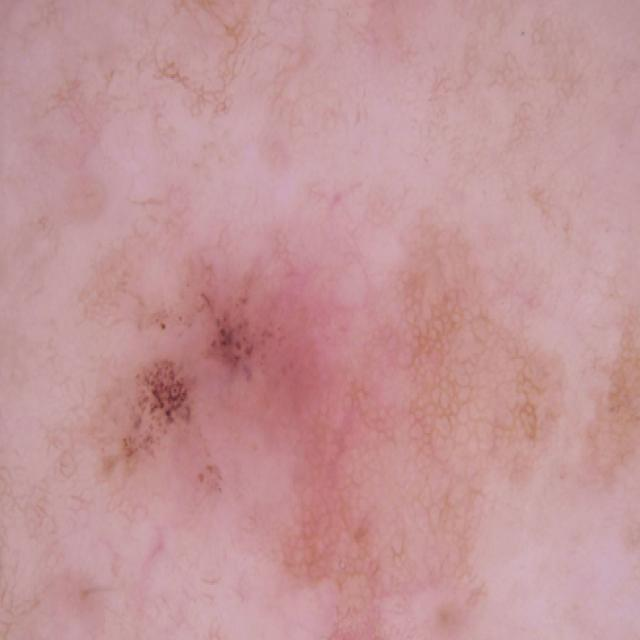Carcinoma: (98, 256, 394, 522)
